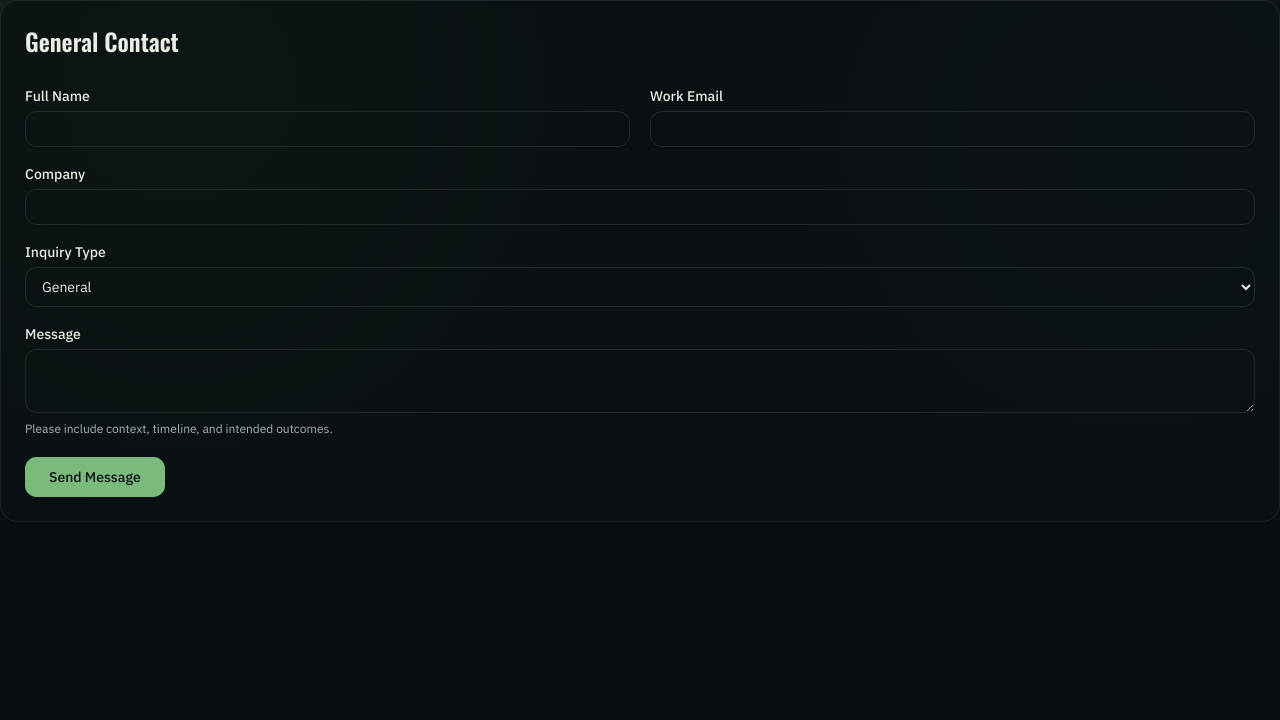
ContactForm › highlights client-side validation failures before submitting
Click the button "Send Message": (95, 477) [25, 457, 165, 497]
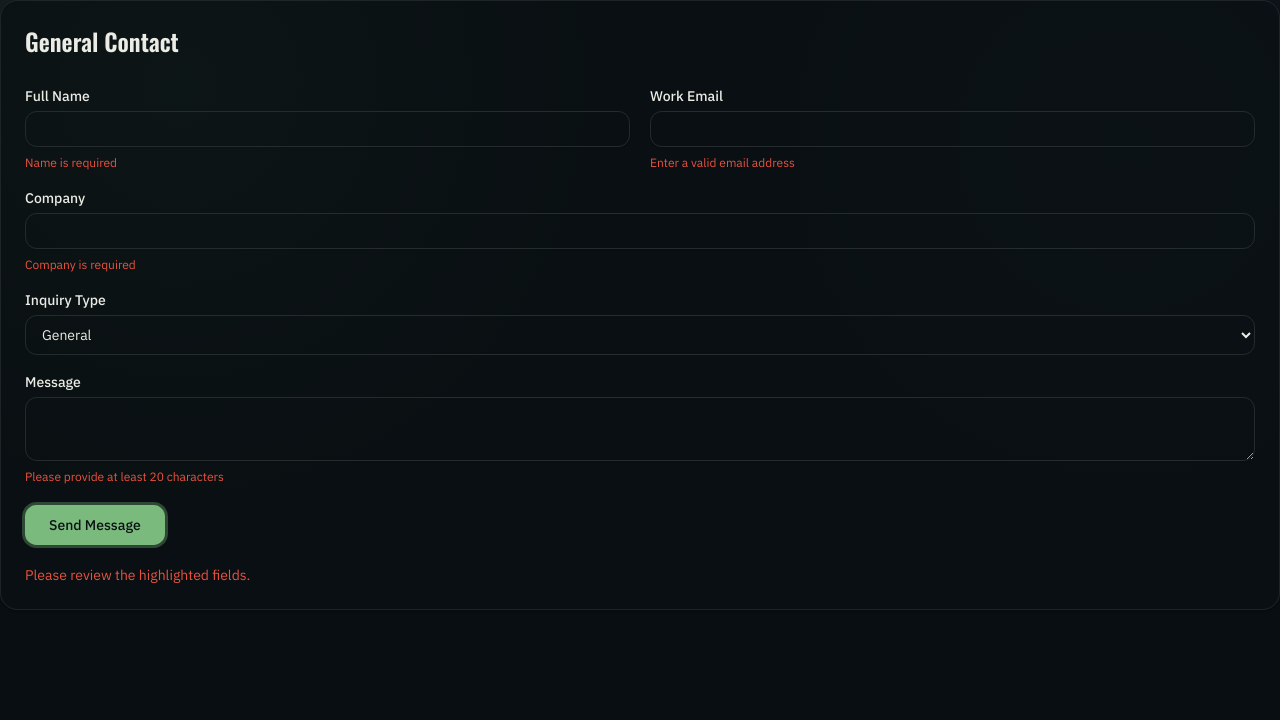
Expected: the text "Please review the highlighted fields." is shown, [25, 566, 250, 584]
